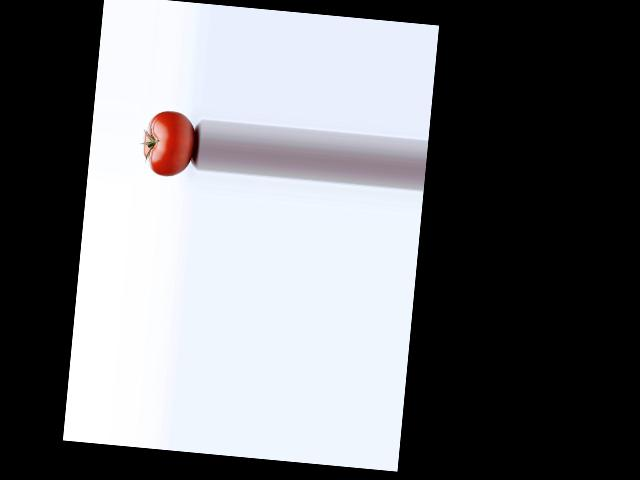tomato: (141, 109, 197, 178)
